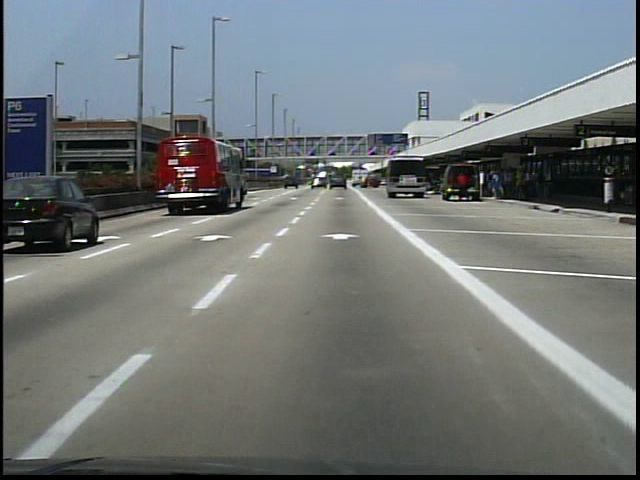person: (457, 167, 473, 204)
